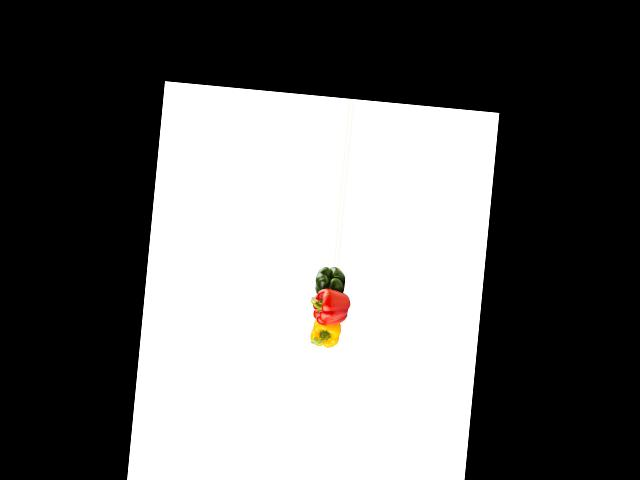bell_pepper: (306, 317, 347, 351)
